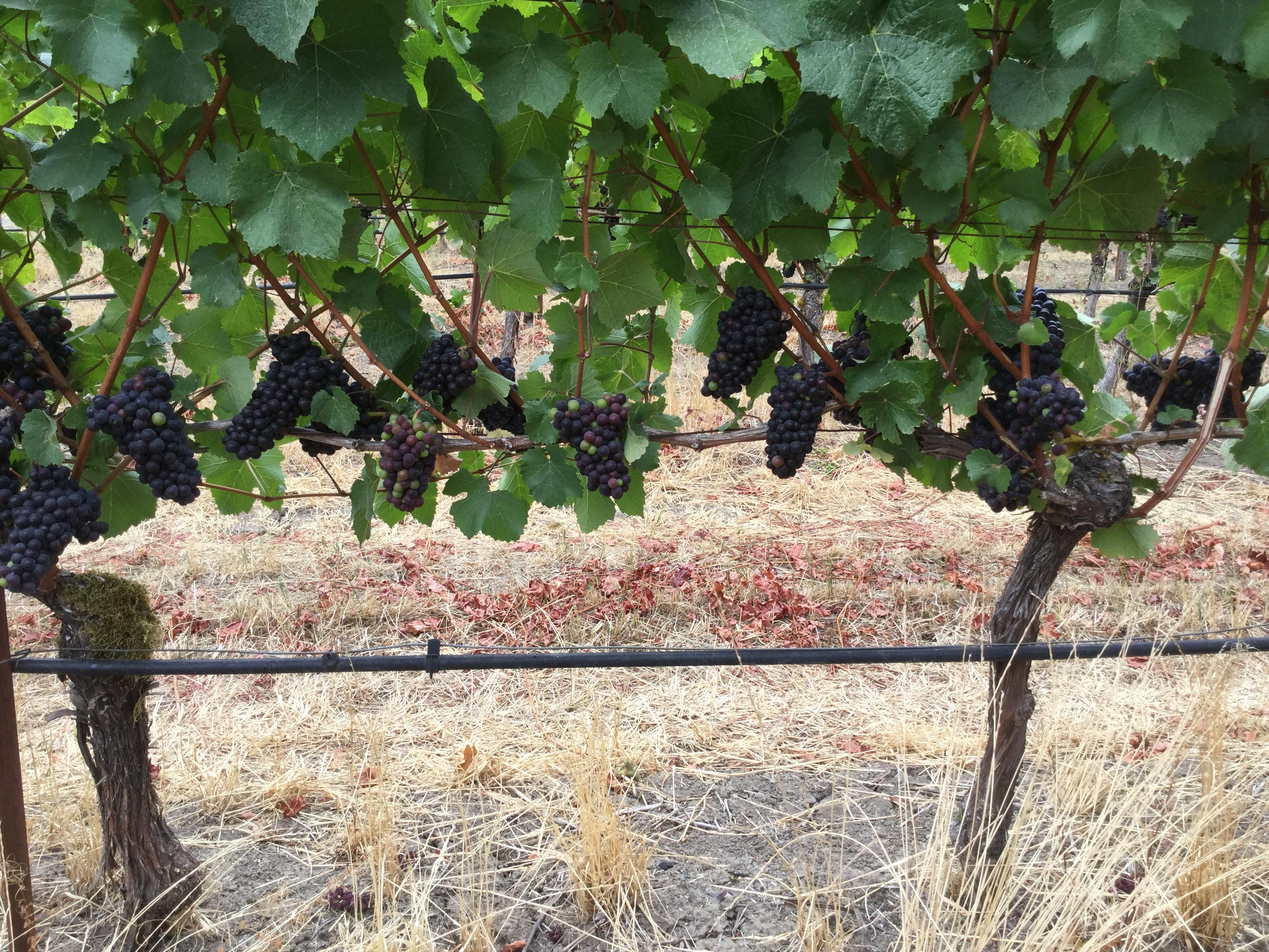leaf: (799, 0, 980, 154), (260, 0, 407, 156), (704, 79, 801, 236), (1108, 48, 1233, 162), (400, 58, 498, 199), (228, 150, 348, 257), (465, 6, 572, 124), (651, 0, 806, 75), (1052, 0, 1191, 81), (1049, 149, 1164, 239), (38, 0, 144, 88), (576, 33, 668, 124), (991, 50, 1092, 131), (29, 117, 121, 200), (142, 19, 218, 105), (443, 469, 530, 541), (476, 221, 546, 310), (199, 441, 284, 514), (592, 249, 664, 325), (230, 0, 317, 62), (504, 149, 563, 239), (171, 307, 233, 374), (912, 117, 967, 190), (859, 380, 923, 441), (520, 446, 584, 507), (99, 472, 157, 537), (859, 215, 926, 270), (189, 244, 246, 307), (185, 140, 237, 205), (453, 364, 510, 418), (127, 173, 182, 228), (680, 161, 732, 219), (1089, 518, 1160, 557), (350, 454, 381, 543), (1230, 404, 1268, 474), (942, 356, 986, 416), (215, 355, 254, 418), (21, 408, 64, 465), (573, 475, 615, 532), (310, 387, 359, 435), (965, 448, 1011, 492), (553, 252, 599, 291), (259, 500, 280, 508), (1068, 239, 1069, 240), (451, 67, 451, 68), (1051, 239, 1052, 239)
